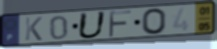0: (48, 15, 71, 41)
4: (171, 6, 192, 33)
F: (107, 9, 134, 39)
K: (24, 16, 44, 42)
O: (140, 7, 168, 36)
U: (76, 10, 108, 40)
